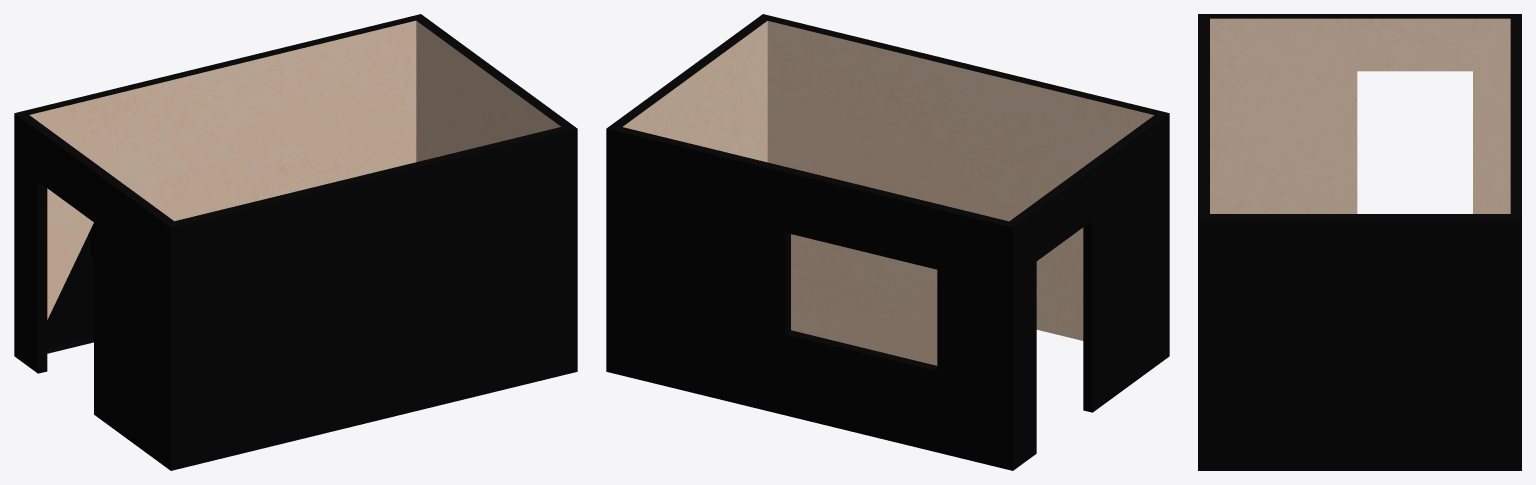
The model's file is Bedroom1Walls.obj.
The picture shows the model from 3 angles, left to right: view 1: azimuth 30°, elevation 25°; view 2: azimuth 150°, elevation 25°; view 3: azimuth 270°, elevation 25°; orthographic projection. The views are drawn at different scales.
Parts seen in each view (by area): view 1: Bedroom1Walls; view 2: Bedroom1Walls; view 3: Bedroom1Walls.
Boxes of the visible parts, x1=… form: Bedroom1Walls: x1=14, y1=14, x2=577, y2=470; Bedroom1Walls: x1=606, y1=14, x2=1169, y2=470; Bedroom1Walls: x1=1198, y1=14, x2=1521, y2=470.
Bounding box in the file's own units: 613 × 350 × 408.
